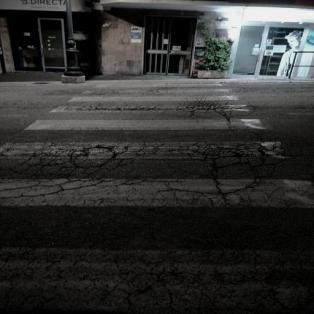Paso de Cebra: (19, 104, 285, 132)
